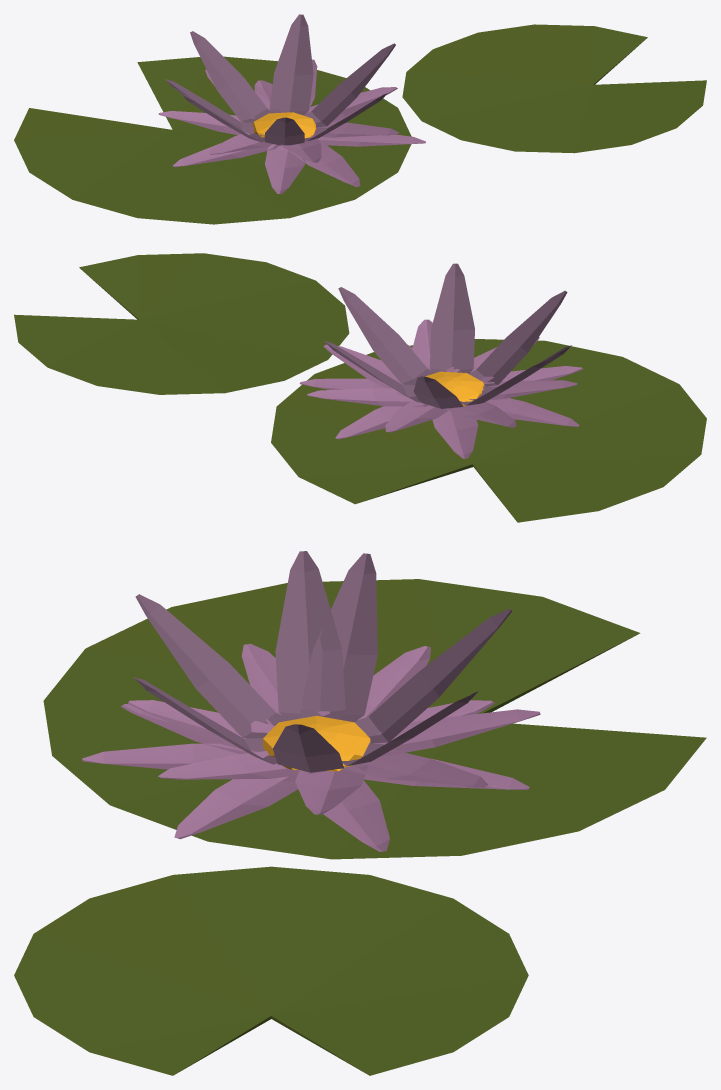
Rendered from Nenuphard 2.fbx.
The picture shows the model from 3 angles, top to bottom: view 1: azimuth 30°, elevation 25°; view 2: azimuth 150°, elevation 25°; view 3: azimuth 270°, elevation 25°; orthographic projection. The views are drawn at different scales.
Visible parts, largest first — view 1: Circle.003; view 2: Circle.003; view 3: Circle.003.
Part boxes in pixels (x1,y1,x2,y2): Circle.003: (14, 14, 706, 224); Circle.003: (14, 253, 706, 522); Circle.003: (14, 551, 706, 1075).
Bounding box in the file's own units: 354 × 47.66 × 210.
